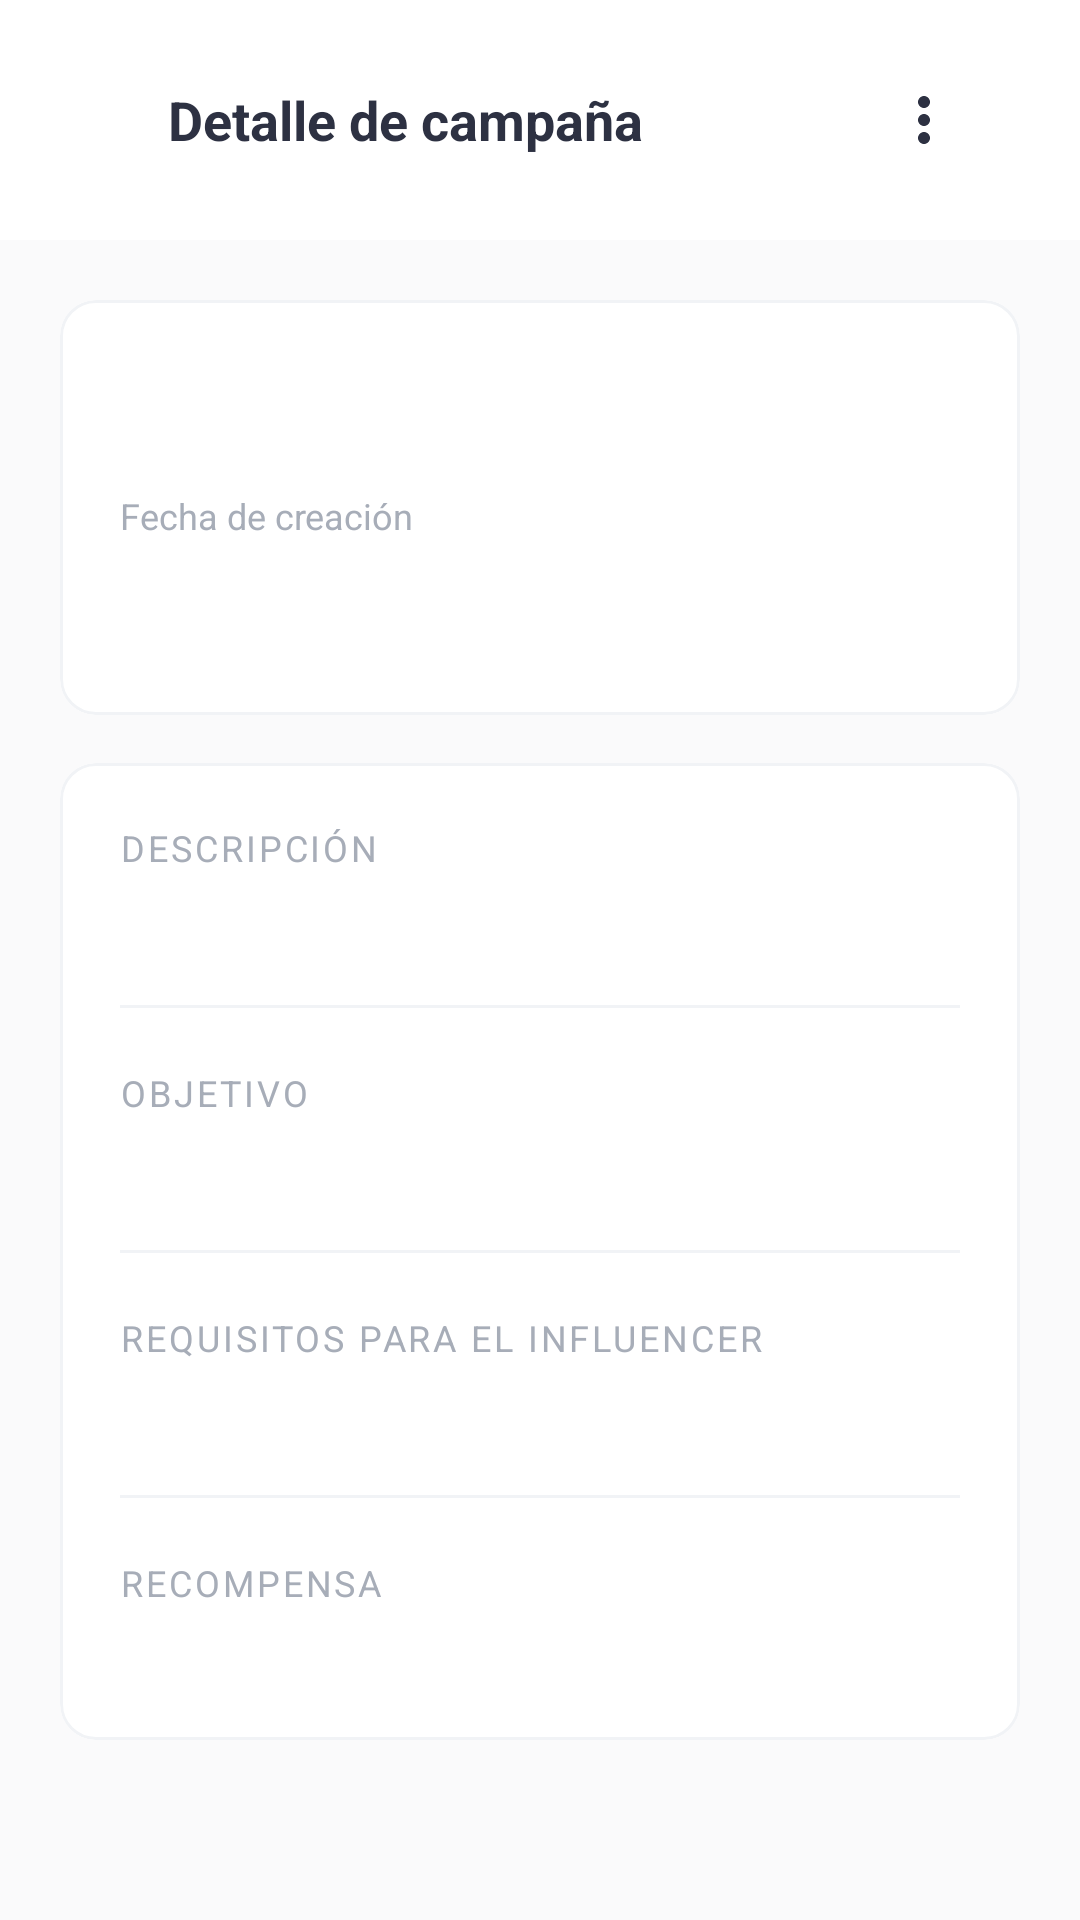

Point at icon controls on the screen. Image size 1080x1920, points as (x=x, y=y).
Opciones: (x=924, y=120)
